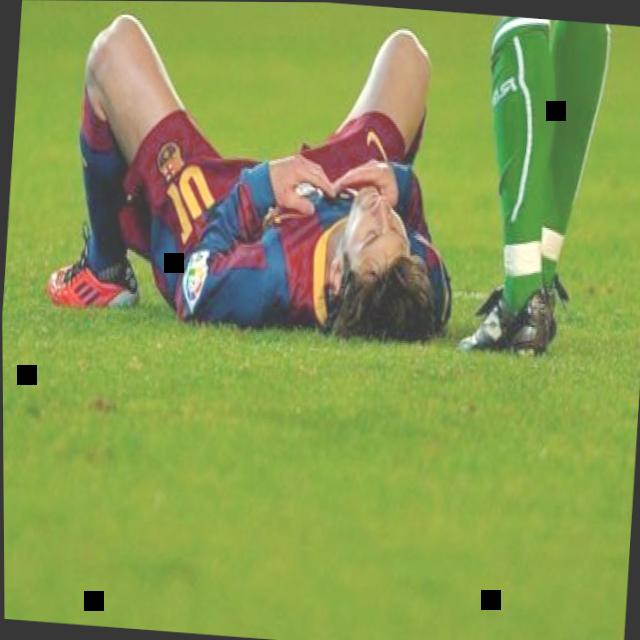Fall-Detected: (33, 0, 486, 353)
